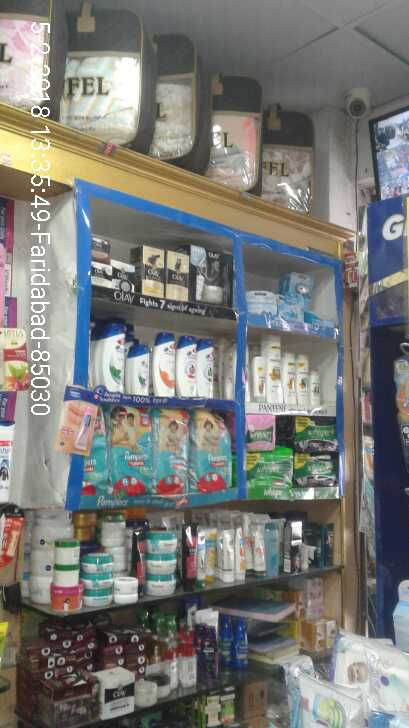venus: (247, 291, 277, 317), (283, 271, 314, 293), (308, 311, 337, 334), (277, 294, 304, 317)
